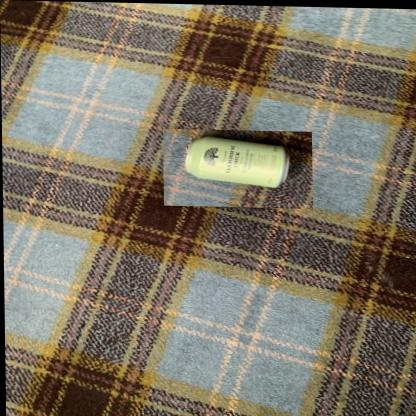trash: (185, 136, 288, 187)
